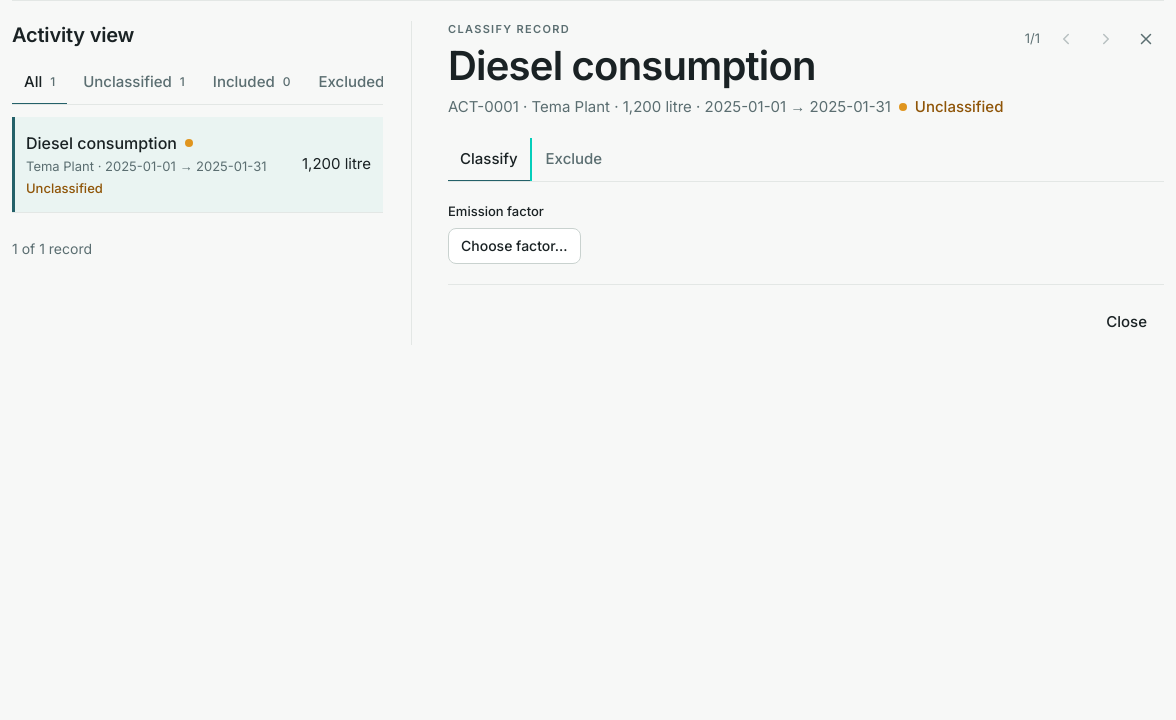
it: the picker cites each publication and hides unapproved rows (spec 02.3)
Click the button "Choose factor…" at (514, 246), box [448,228,581,264]
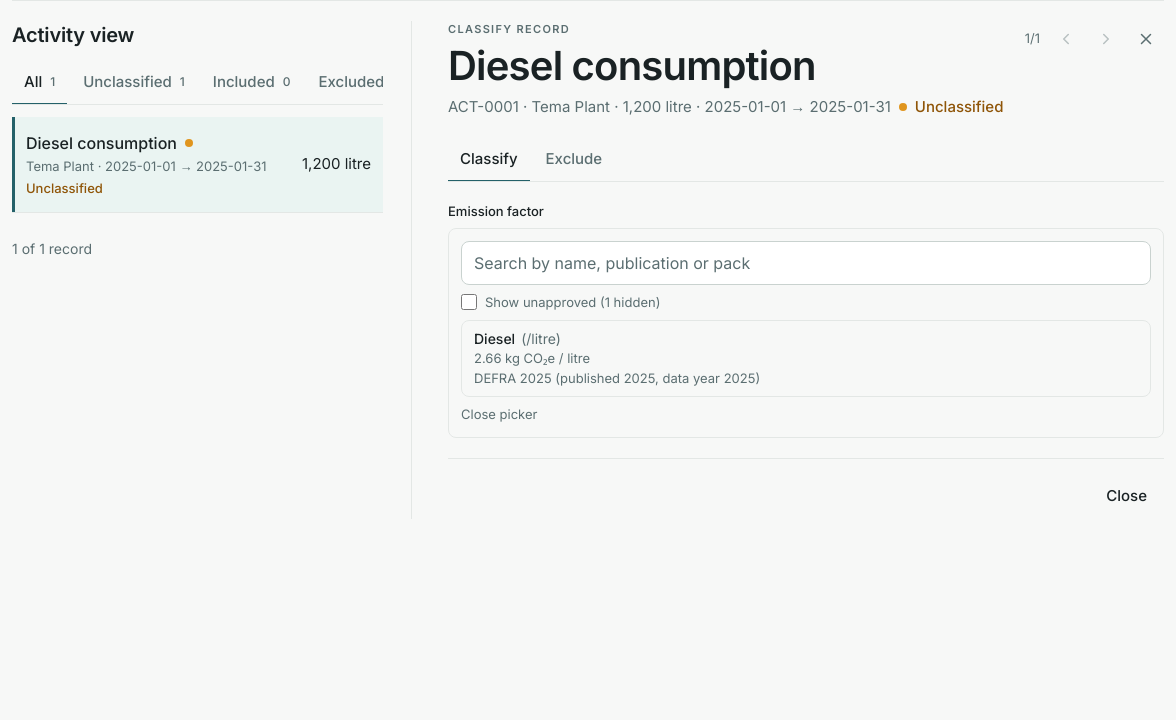
Check: the text "DEFRA 2025 (published 2025, data year 2025)" is shown, box [474,370,760,386]
Click the checkbox labelled "Show unapproved (1 hidden)" at (469, 302), box [461,294,477,310]
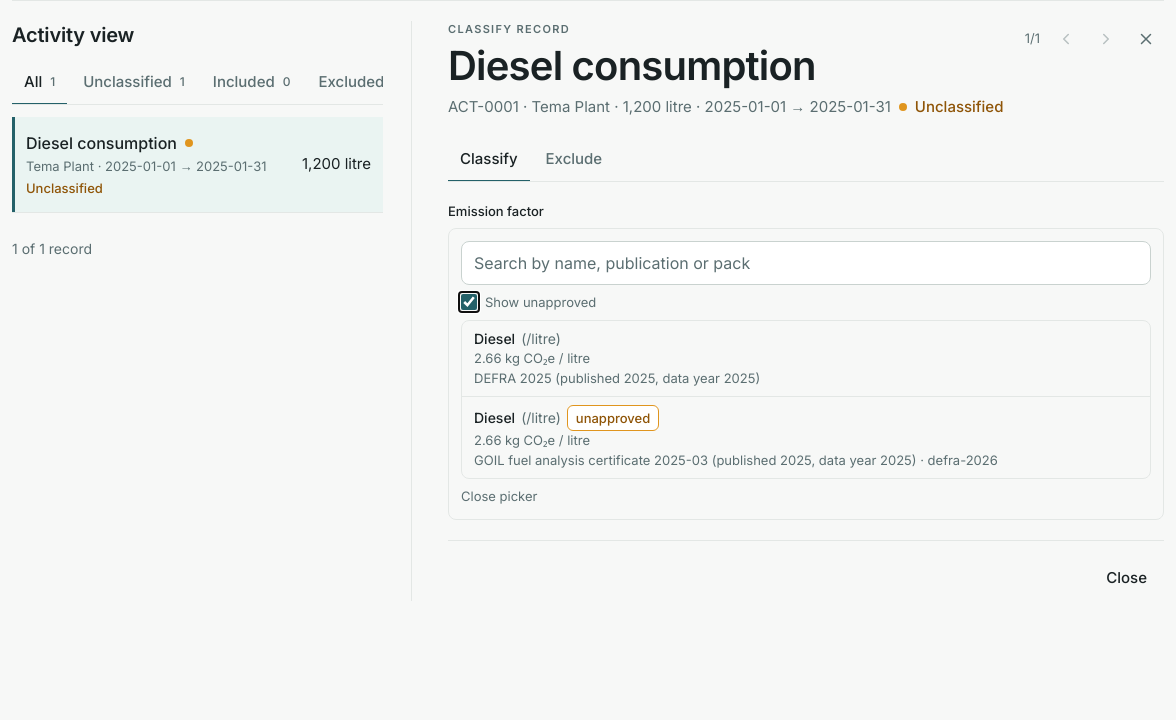
Check: the text "unapproved" is shown, box [567,405,659,431]
the search covers the pack tag as well as the name and the publication
Type "defra-2026" into the field named "Search factors for Diesel consumption" at (806, 262), box [461,240,1151,284]
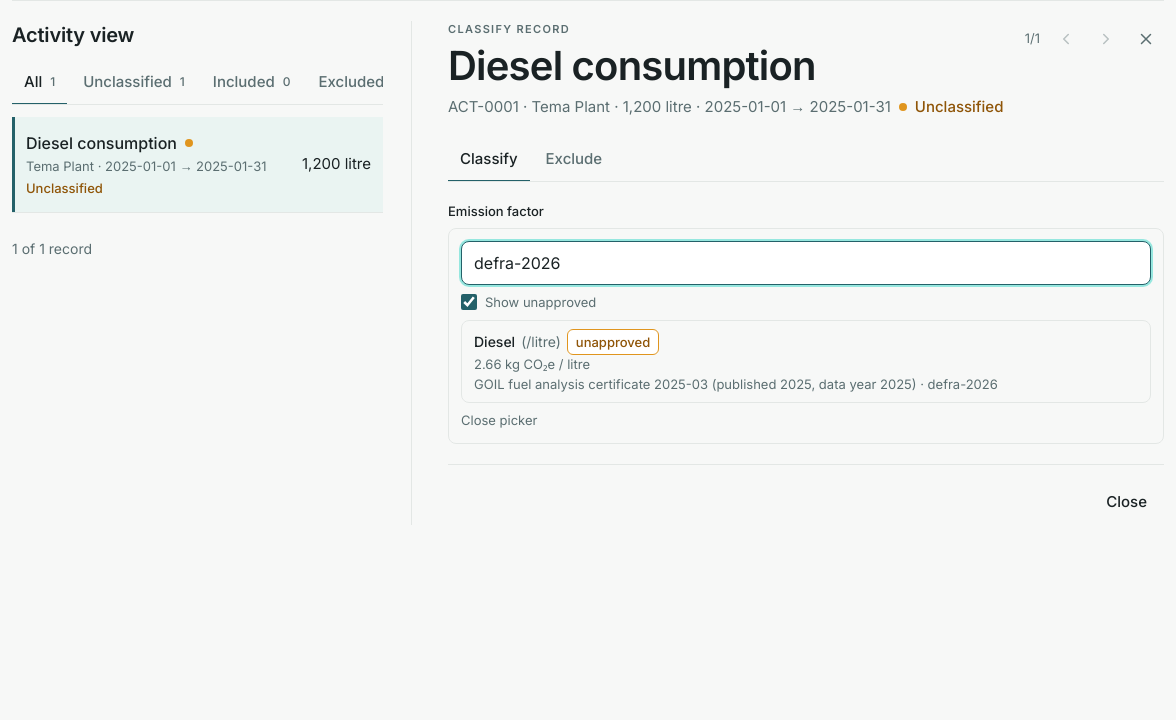
Check: the text "GOIL fuel analysis certificate" is shown, box [474,376,916,392]
Check: the button "DEFRA 2025 (published 2025" is gone
